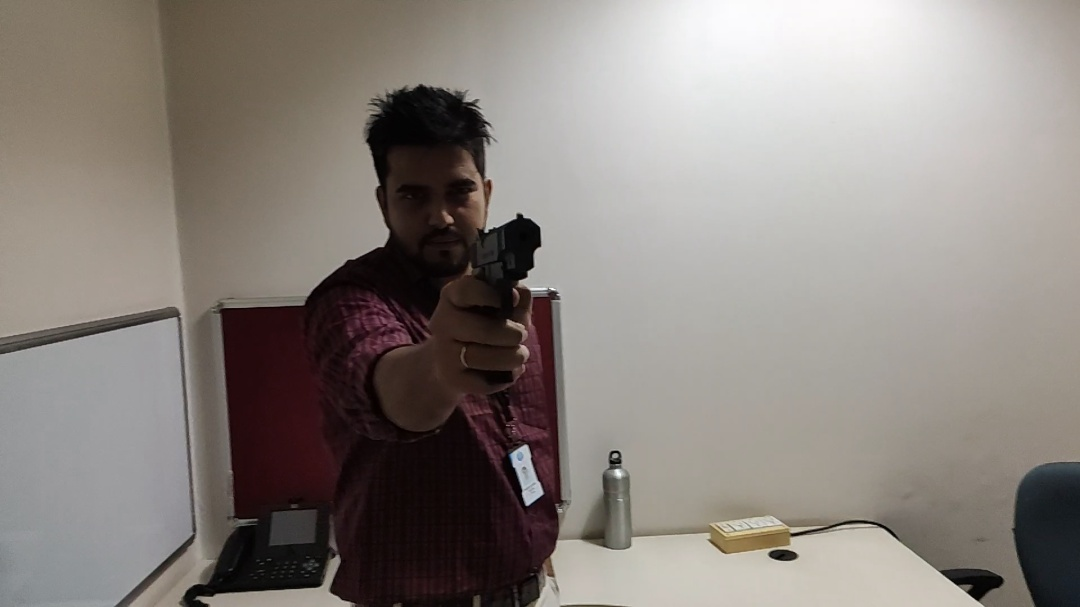gun: (463, 209, 546, 394)
